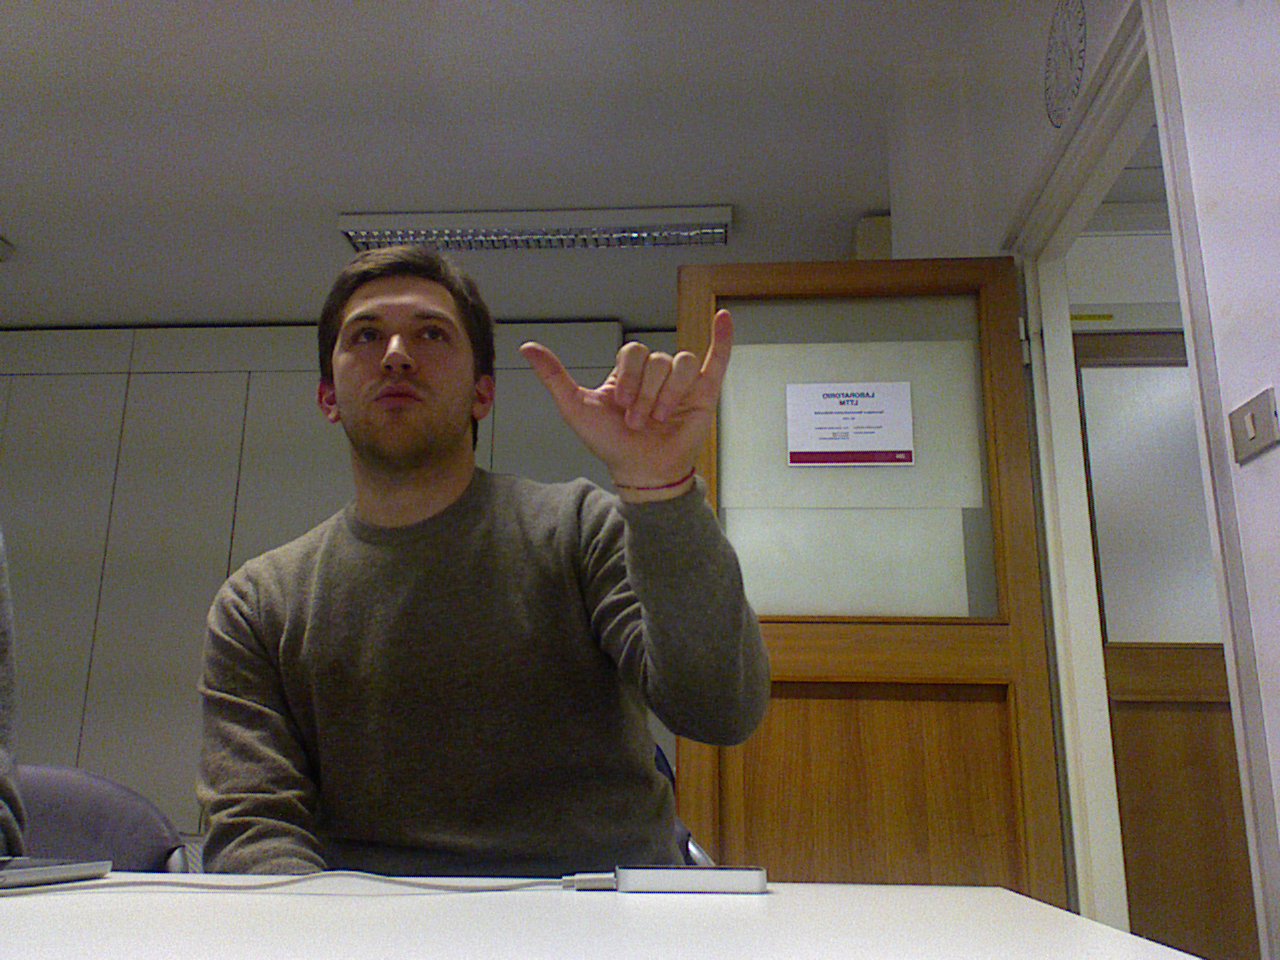cool: (513, 307, 748, 483)
